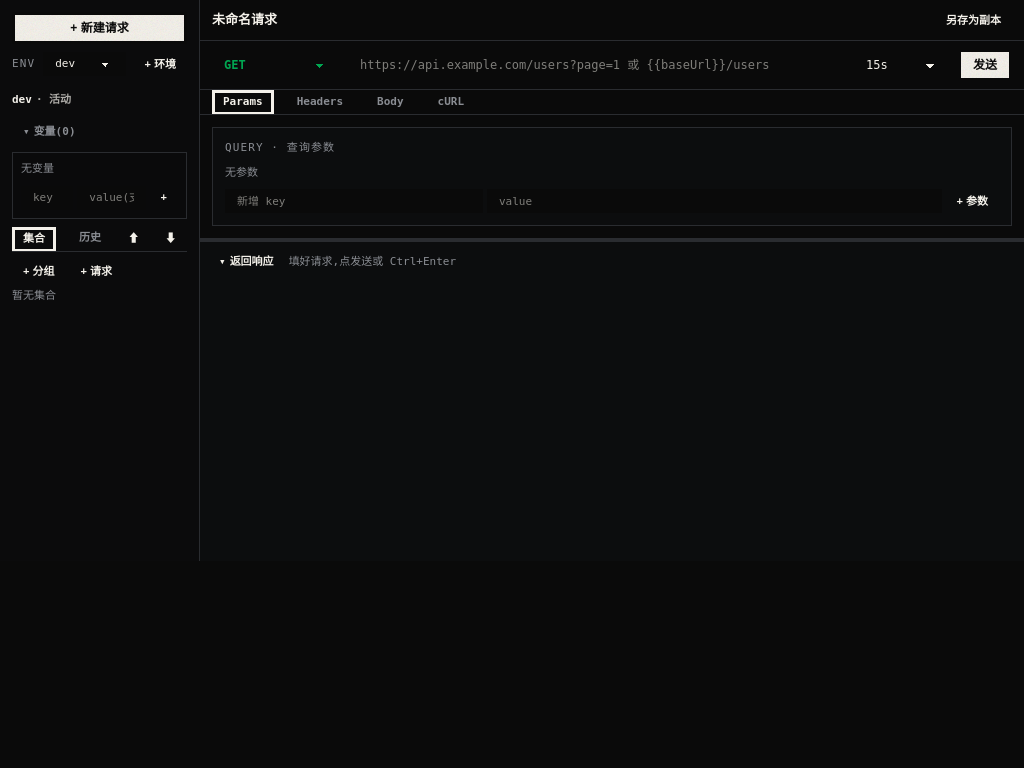
Test: 变量块折叠 › 折叠后输入行离开 DOM,展开后回来
Click the button with test id "env-vars-toggle": [100, 132] box [12, 120, 187, 144]
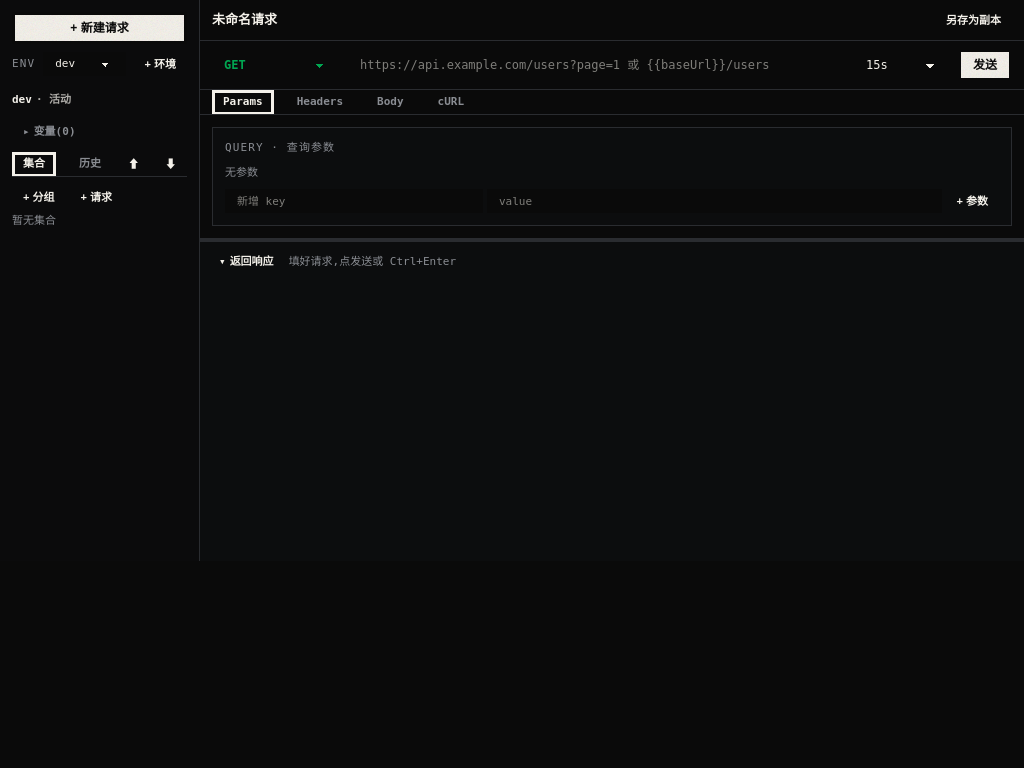
Now the button with test id "env-vars-toggle" is collapsed
Now the field with test id "env-var-key" is gone
Click the button with test id "env-vars-toggle": [100, 132] box [12, 120, 187, 144]
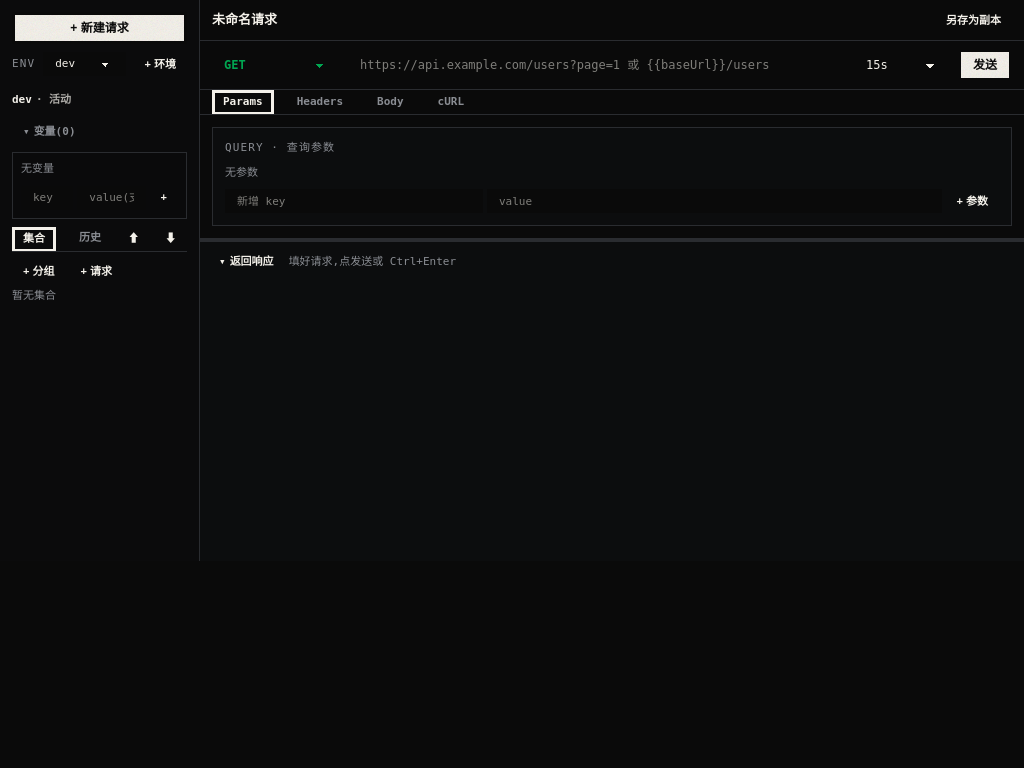
Now the field with test id "env-var-key" is shown, box [21, 186, 73, 210]
